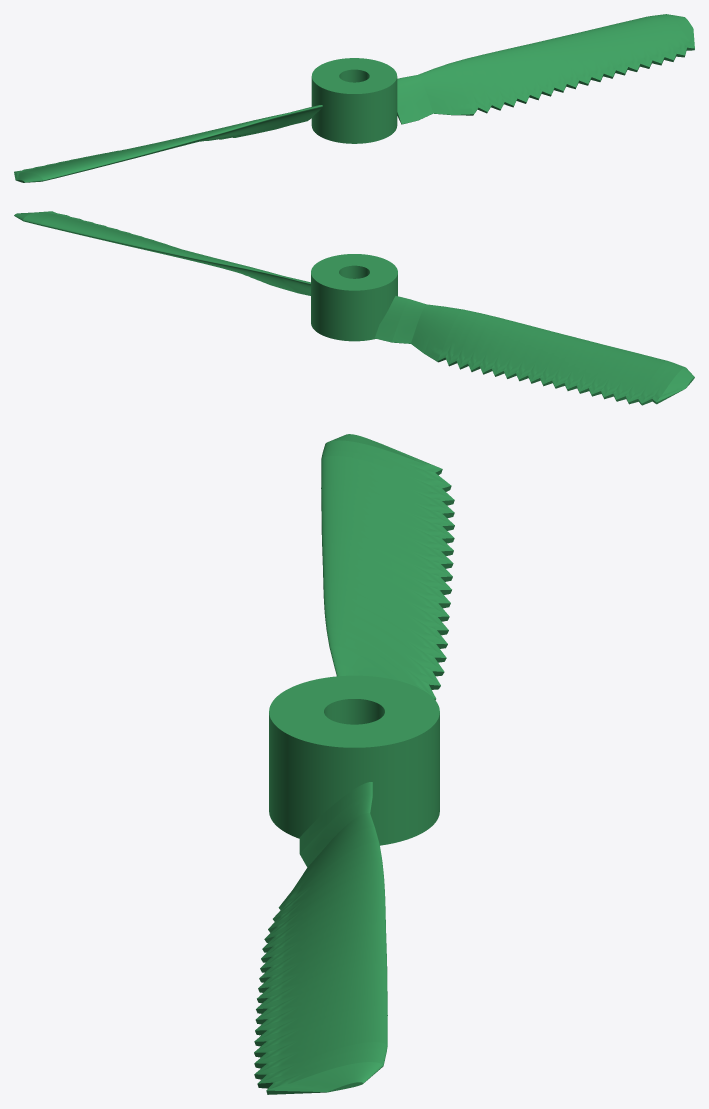
File: da4002_5x3.75_serrations_L18.glb
3 renders of one model, top to bottom at view 1: azimuth 30°, elevation 25°; view 2: azimuth 150°, elevation 25°; view 3: azimuth 270°, elevation 25°, orthographic. The views are drawn at different scales.
Visible parts, largest first — view 1: da4002_serrations_A0.1_L0.2; view 2: da4002_serrations_A0.1_L0.2; view 3: da4002_serrations_A0.1_L0.2.
Part boxes in pixels (x1=…): da4002_serrations_A0.1_L0.2: x1=14, y1=14, x2=694, y2=182; da4002_serrations_A0.1_L0.2: x1=14, y1=211, x2=694, y2=405; da4002_serrations_A0.1_L0.2: x1=254, y1=434, x2=454, y2=1094.
Bounding box in the file's own units: 0.1257 × 0.00917 × 0.0165.
